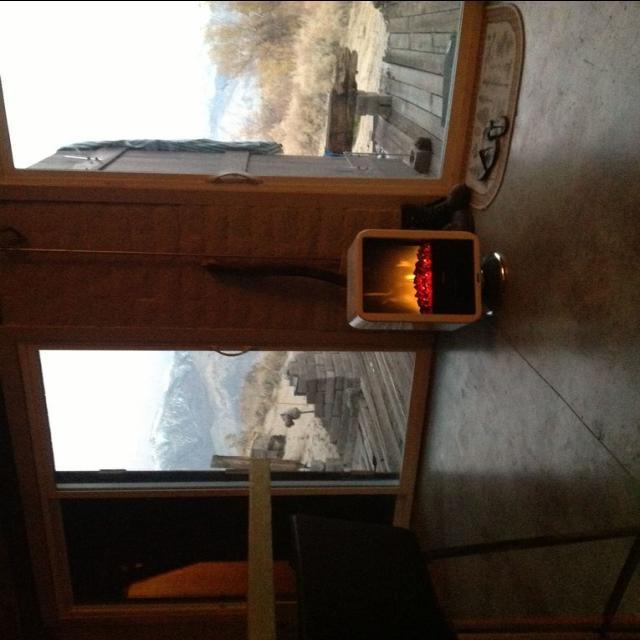Fire: (390, 244, 432, 310)
